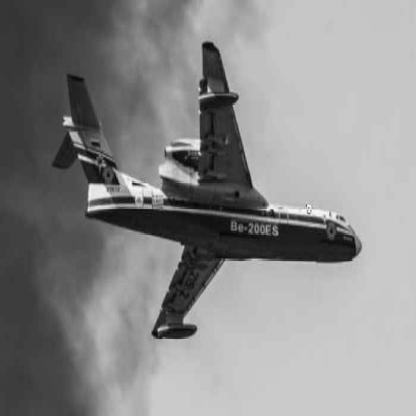Be200: (51, 42, 363, 341)
